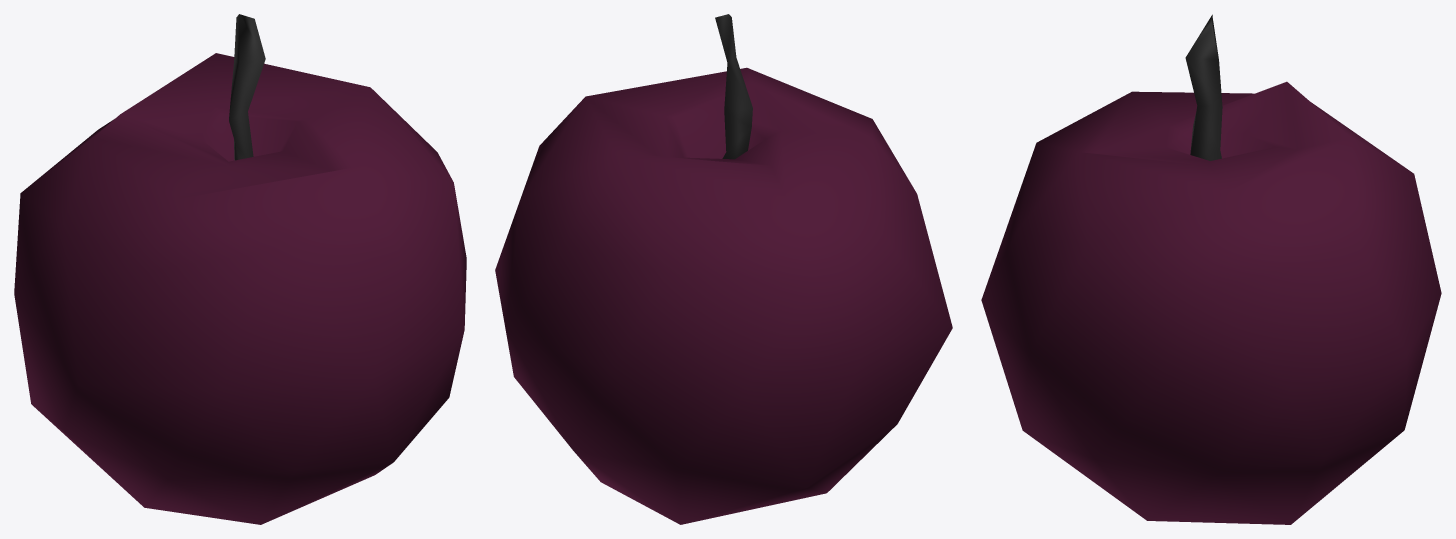
Rendered from SM-Jabuticaba-Smooth.fbx.
3 renders of one model, left to right at view 1: azimuth 30°, elevation 25°; view 2: azimuth 150°, elevation 25°; view 3: azimuth 270°, elevation 25°, orthographic. The views are drawn at different scales.
Parts seen in each view (by area): view 1: Jabuticaba; view 2: Jabuticaba; view 3: Jabuticaba.
Boxes of the visible parts, box(x1,y1,x2,y2) form: Jabuticaba: box(14, 14, 466, 524); Jabuticaba: box(495, 14, 952, 524); Jabuticaba: box(981, 14, 1441, 524).
Size of the model in its own units: 19.49 by 22.27 by 19.9.
